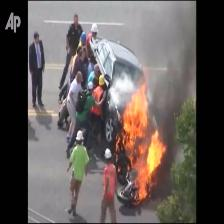fire: (125, 76, 168, 208)
smoke: (114, 6, 160, 63), (170, 15, 194, 93)
